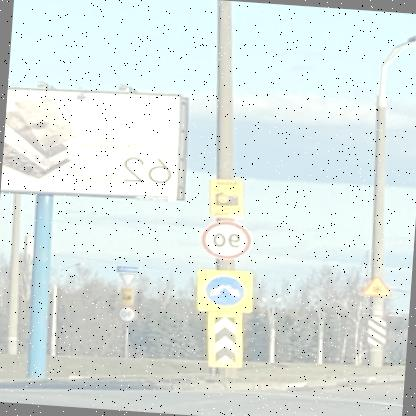speedlimit: (203, 218, 256, 262), (119, 306, 140, 322)
